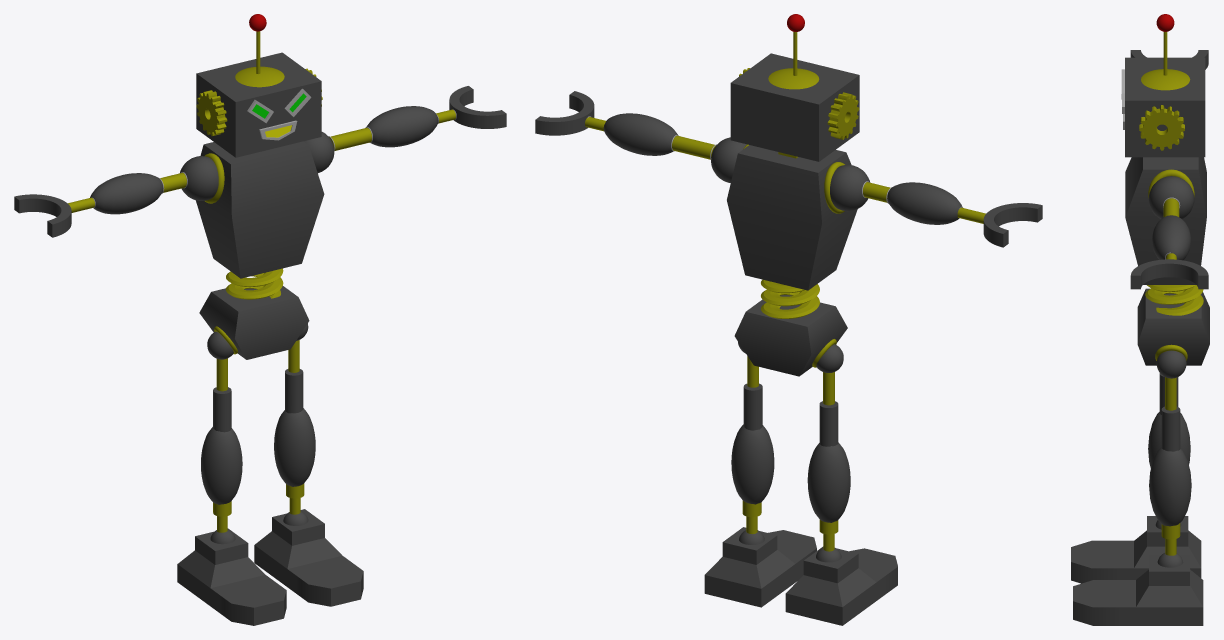
The model's file is Ched.fbx.
The picture shows the model from 3 angles, left to right: view 1: azimuth 30°, elevation 25°; view 2: azimuth 150°, elevation 25°; view 3: azimuth 270°, elevation 25°; orthographic projection. The views are drawn at different scales.
Parts seen in each view (by area): view 1: pCube5, ChedRightLeg, ChedLeftLeg, ChedHead, ChedRightArm, pCube9, ChedLeftArm, pHelix1; view 2: pCube5, ChedHead, ChedRightLeg, ChedLeftLeg, ChedRightArm, ChedLeftArm, pCube9, pHelix1; view 3: ChedLeftLeg, ChedHead, ChedRightLeg, pCube5, ChedLeftArm, pCube9, pHelix1, pTorus10, ChedRightArm, pTorus11.
Boxes of the visible parts, <box> form: pCube5: <box>196,141,324,278</box>; ChedRightLeg: <box>177,331,286,625</box>; ChedLeftLeg: <box>254,323,363,606</box>; ChedHead: <box>196,14,322,157</box>; ChedRightArm: <box>14,156,218,237</box>; pCube9: <box>199,286,309,359</box>; ChedLeftArm: <box>304,86,506,172</box>; pHelix1: <box>226,268,283,299</box>; pCube5: <box>727,145,857,290</box>; ChedHead: <box>730,14,859,161</box>; ChedRightLeg: <box>785,344,897,625</box>; ChedLeftLeg: <box>704,342,816,607</box>; ChedRightArm: <box>830,165,1042,247</box>; ChedLeftArm: <box>535,91,746,182</box>; pCube9: <box>734,295,847,376</box>; pHelix1: <box>761,279,819,318</box>; ChedLeftLeg: <box>1073,350,1203,625</box>; ChedHead: <box>1121,14,1205,157</box>; ChedRightLeg: <box>1071,373,1201,583</box>; pCube5: <box>1125,157,1206,284</box>; ChedLeftArm: <box>1130,176,1208,289</box>; pCube9: <box>1137,288,1209,365</box>; pHelix1: <box>1145,285,1203,315</box>; pTorus10: <box>1148,169,1194,197</box>; ChedRightArm: <box>1130,50,1208,69</box>; pTorus11: <box>1155,344,1187,360</box>.
Size of the model in its own units: 3.53 by 4.19 by 0.916.
